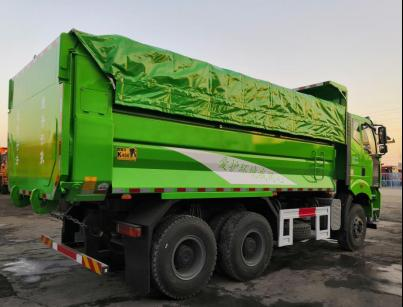truck: (3, 19, 385, 300)
